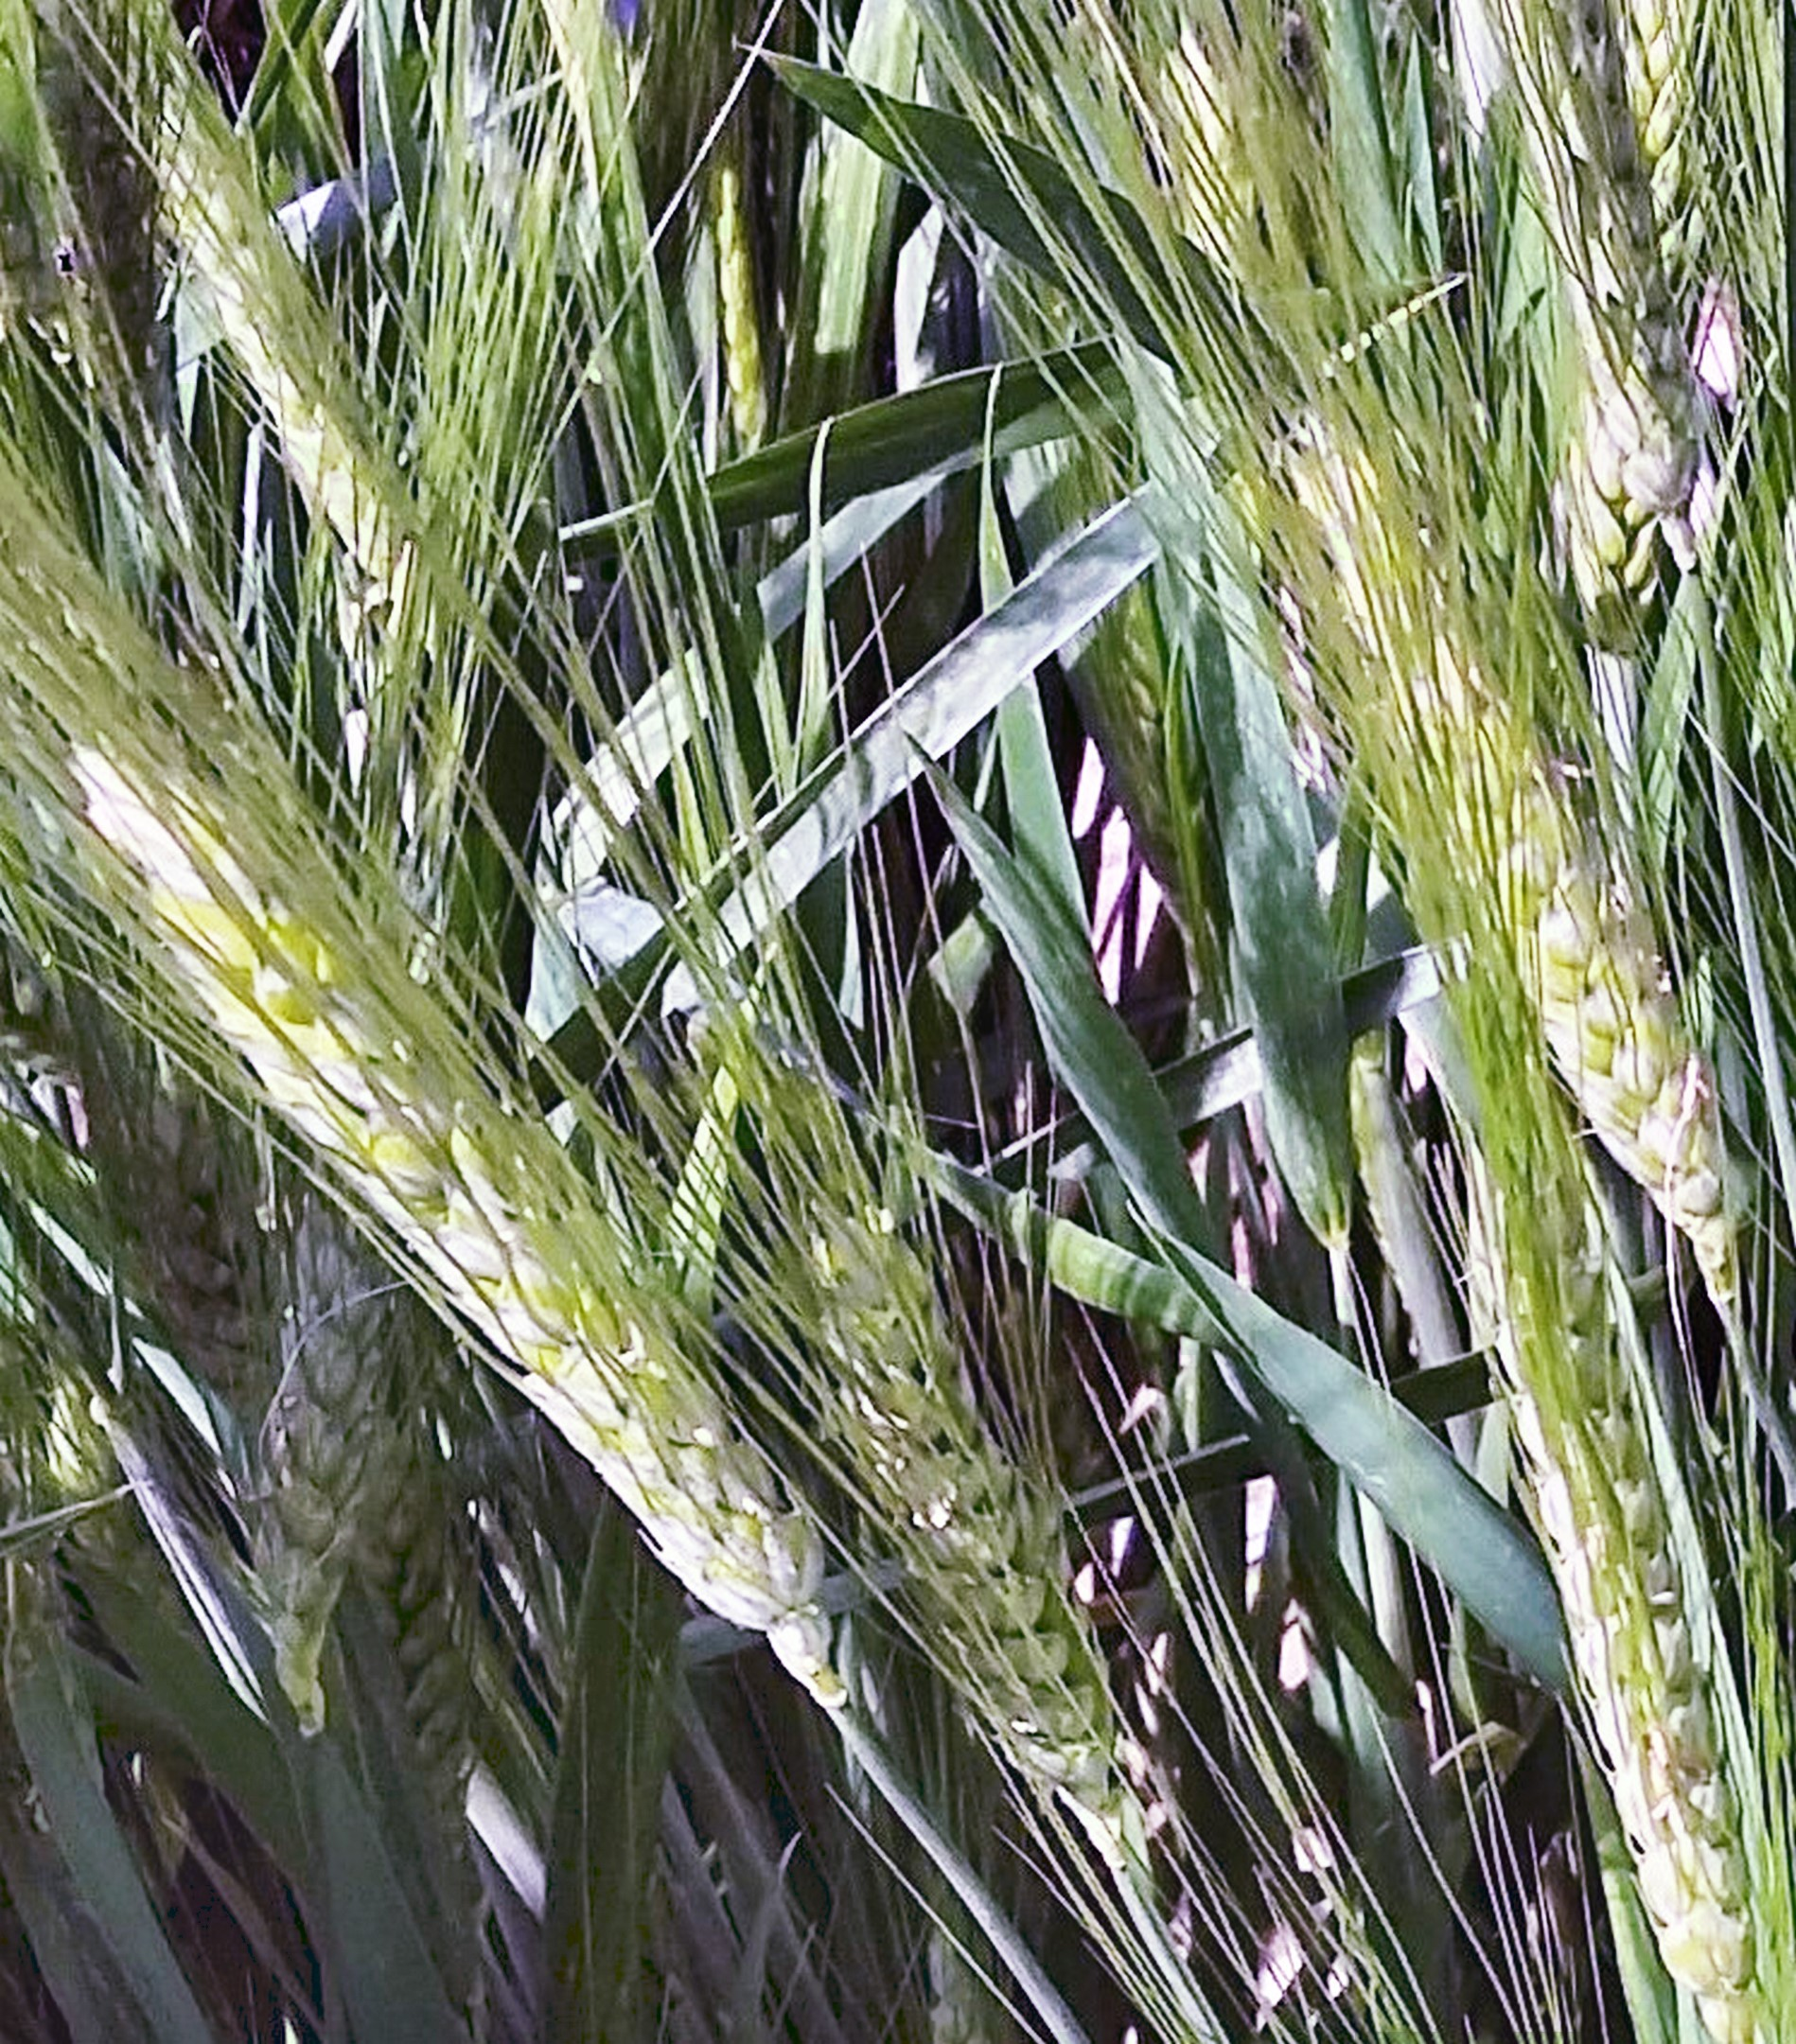Healthy Wheat: (85, 732, 815, 1630), (1459, 1229, 1791, 1976)
